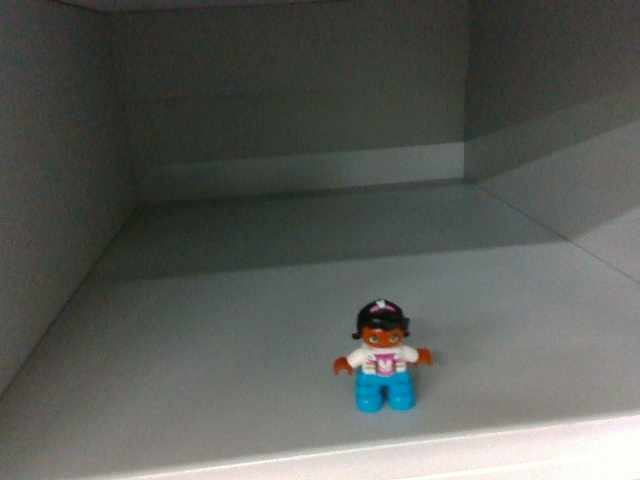people: (334, 293, 436, 419)
